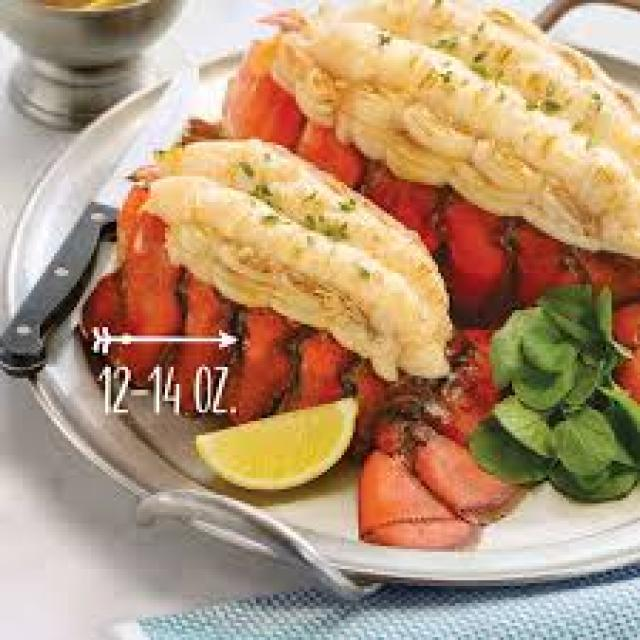Lemon: (193, 402, 358, 493)
Lobster Tail: (343, 295, 500, 538)
